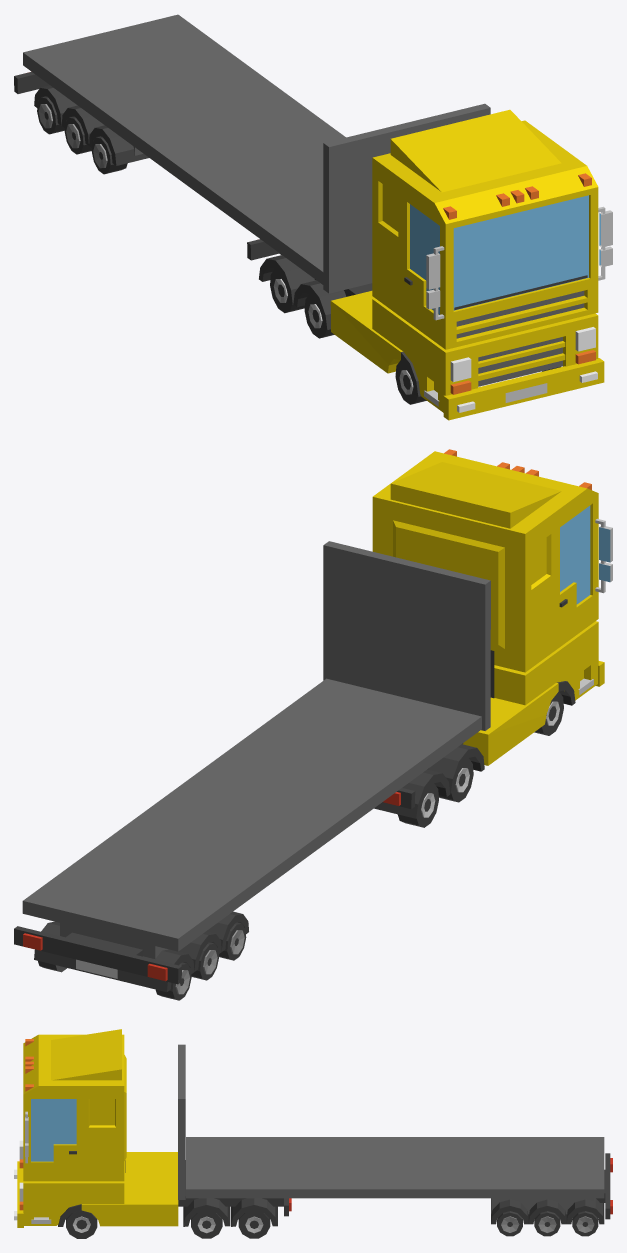
Rendered from Truck_2.fbx.
3 views of the same model, one above another, from view 1: azimuth 30°, elevation 25°; view 2: azimuth 150°, elevation 25°; view 3: azimuth 270°, elevation 25° (orthographic). The views are drawn at different scales.
Parts seen in each view (by area): view 1: Truck_2; view 2: Truck_2; view 3: Truck_2.
Boxes of the visible parts, left/top/right/bottom form: Truck_2: left=14, top=14, right=612, bottom=420; Truck_2: left=14, top=449, right=612, bottom=1000; Truck_2: left=14, top=1029, right=612, bottom=1238.
Bounding box in the file's own units: 1.04 × 1.3 × 4.26.
